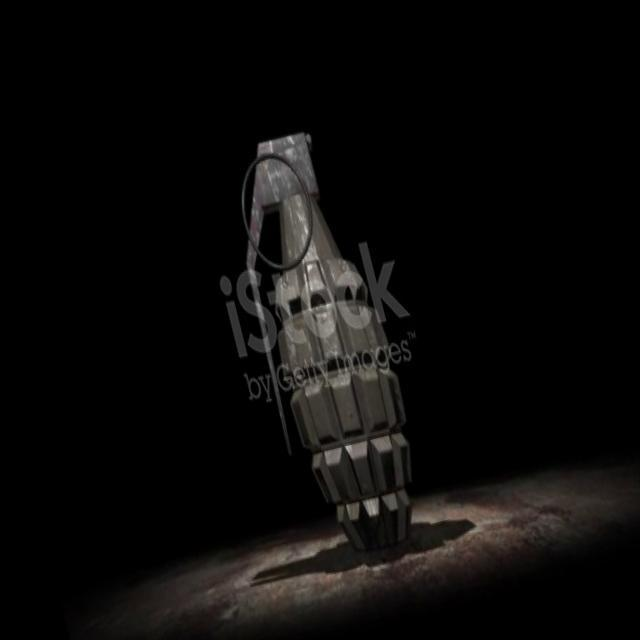grenade: (212, 110, 443, 564)
